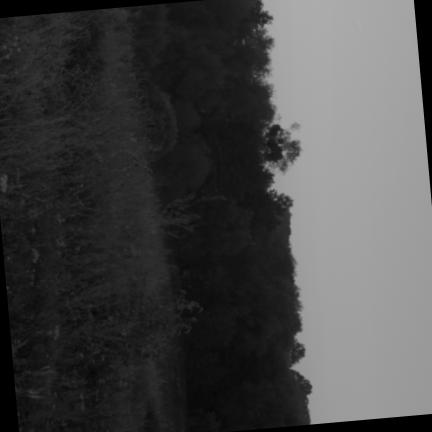Shahed: (126, 152, 151, 177)
